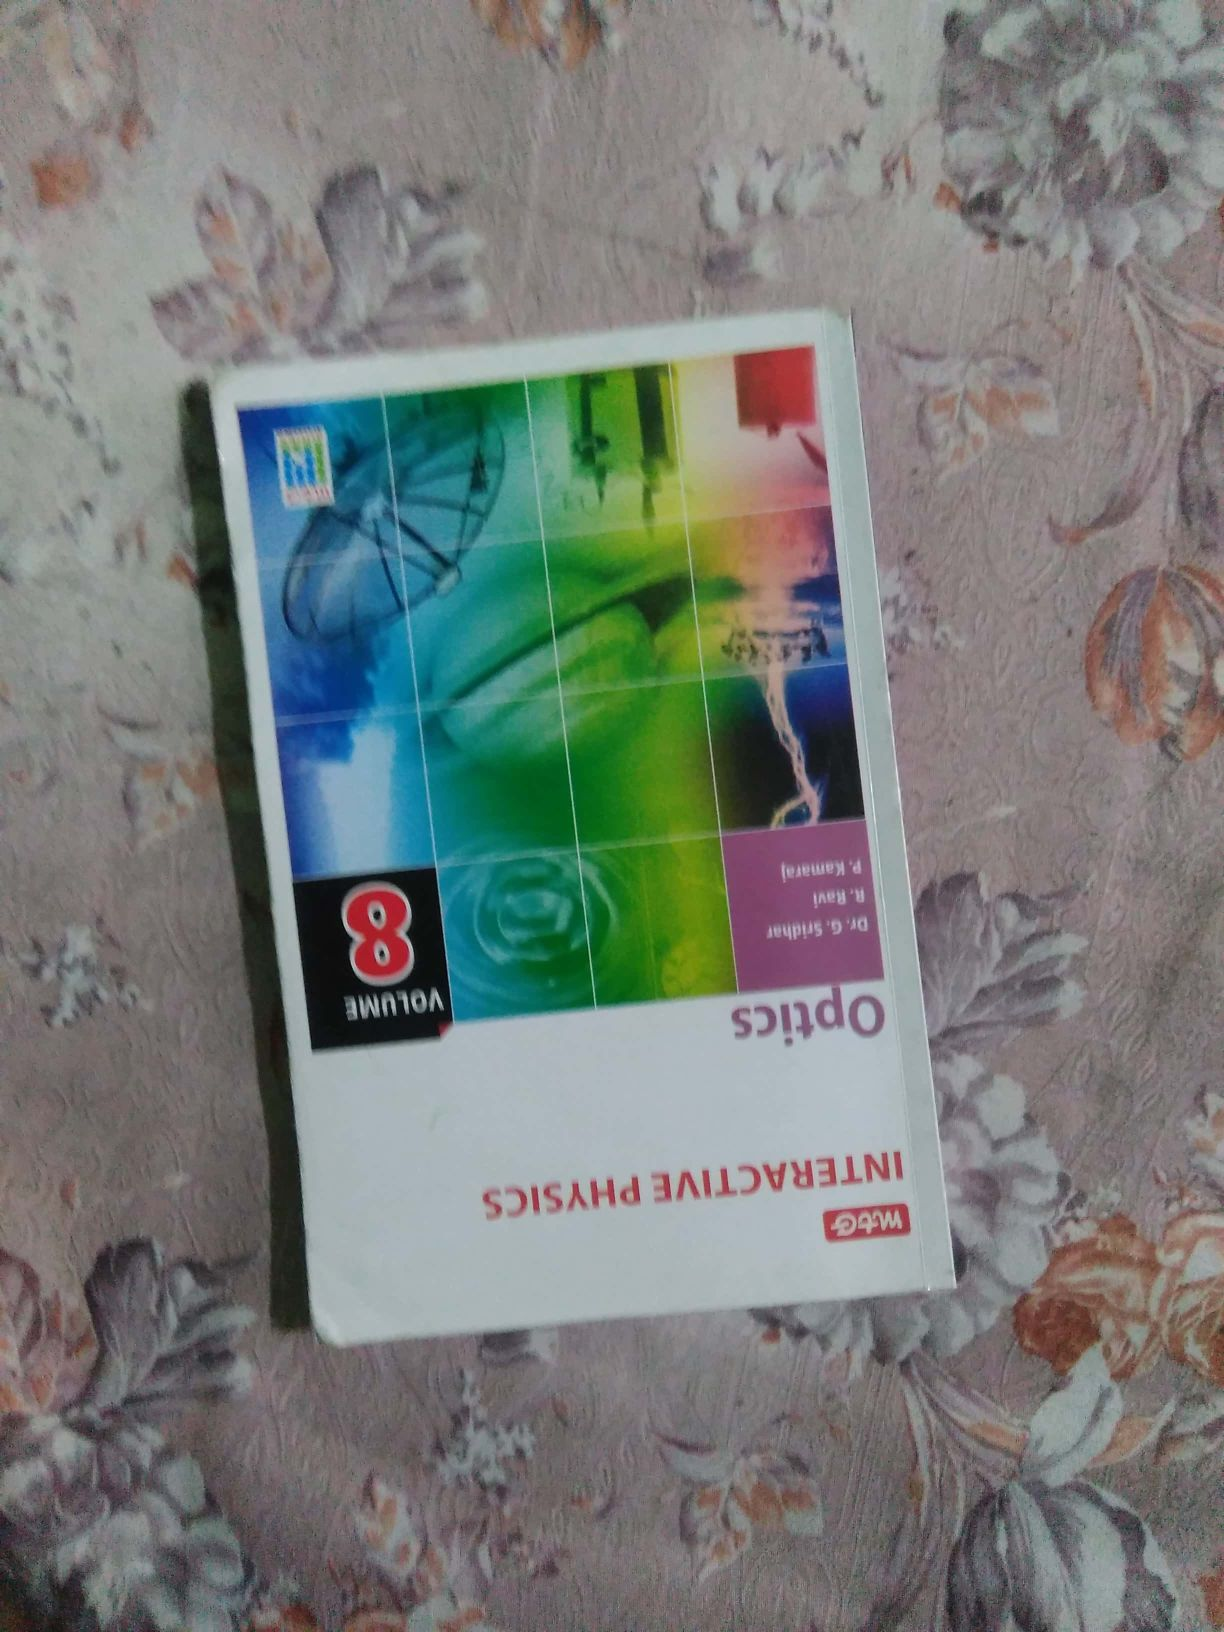optics: (76, 344, 1061, 1318)
